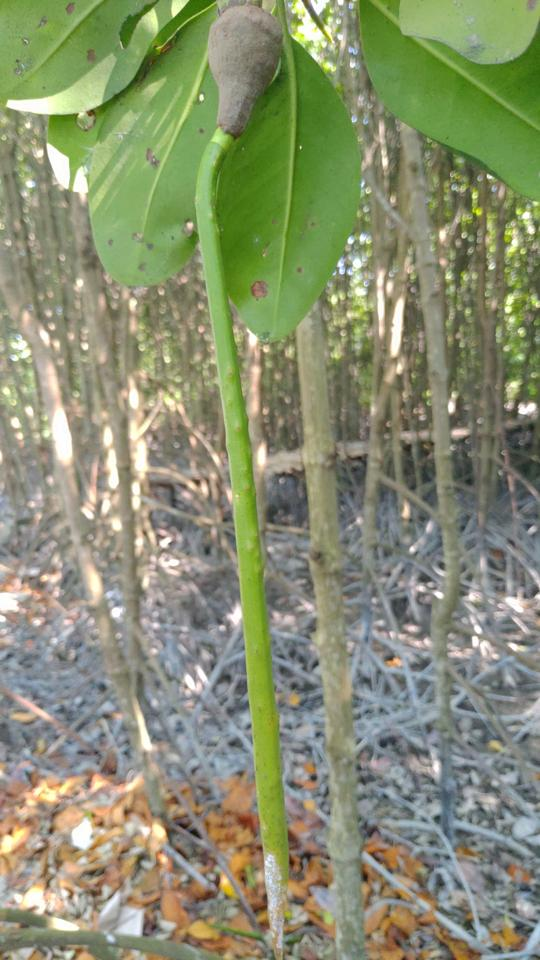setengah matang: (187, 6, 310, 952)
